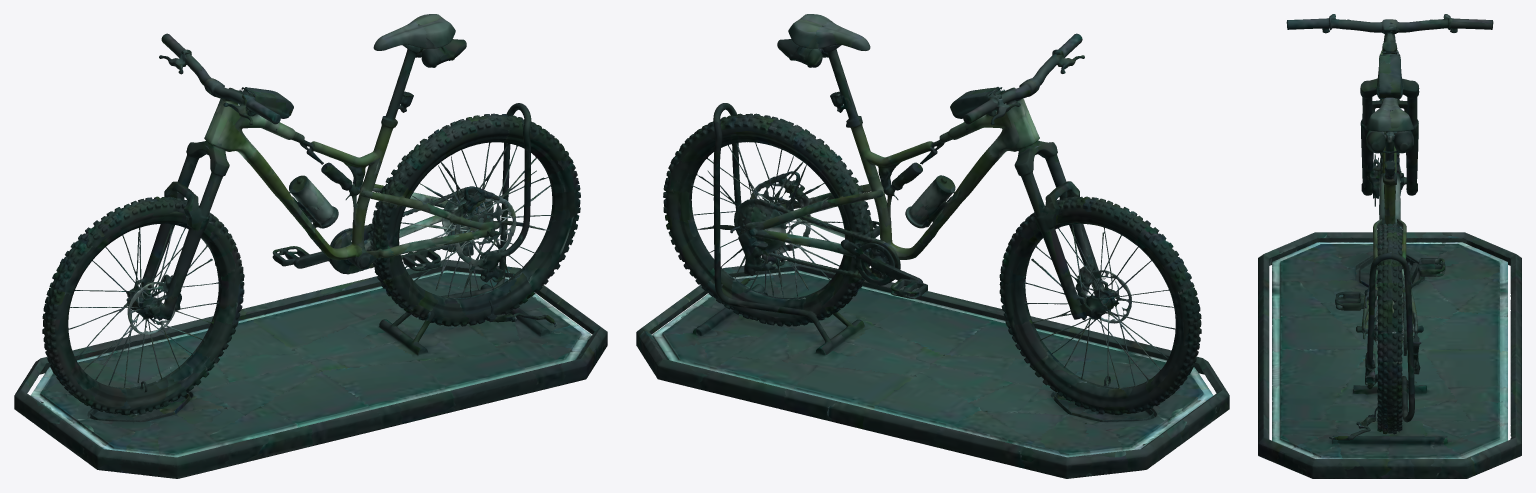
The model's file is Meshy_AI_Neon_Platform_MTB_0307152614_texture.glb.
3 views of the same model, side by side, from view 1: azimuth 30°, elevation 25°; view 2: azimuth 150°, elevation 25°; view 3: azimuth 270°, elevation 25° (orthographic). The views are drawn at different scales.
Size of the model in its own units: 1.9 by 1.12 by 0.8764.
1 material, 1 textured.
